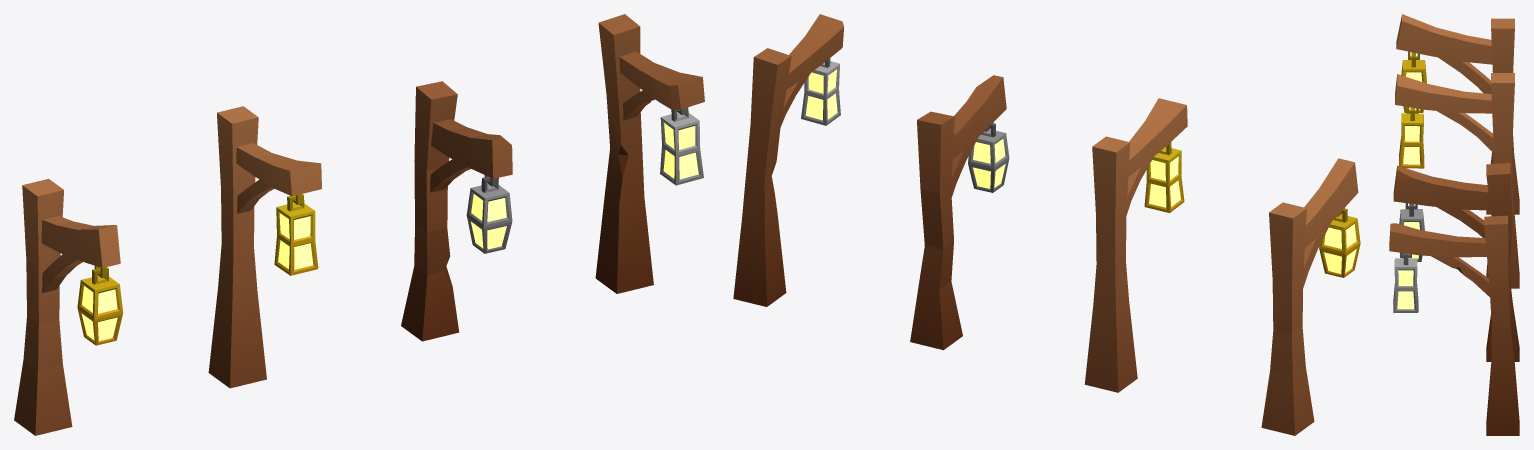
Rendered from Street Lamps.glb.
3 renders of one model, left to right at view 1: azimuth 30°, elevation 25°; view 2: azimuth 150°, elevation 25°; view 3: azimuth 270°, elevation 25°, orthographic. The views are drawn at different scales.
Parts seen in each view (by area): view 1: StreetLamp.001, OldStreetLamp.001, OldStreetLamp, StreetLamp; view 2: StreetLamp.001, OldStreetLamp.001, OldStreetLamp, StreetLamp; view 3: OldStreetLamp.001, StreetLamp.001, OldStreetLamp, StreetLamp.
Boxes of the visible parts, left/top/right/bottom form: StreetLamp.001: left=208, top=106, right=321, bottom=388; OldStreetLamp.001: left=595, top=14, right=704, bottom=293; OldStreetLamp: left=401, top=81, right=512, bottom=341; StreetLamp: left=14, top=178, right=123, bottom=435; StreetLamp.001: left=1084, top=98, right=1187, bottom=392; OldStreetLamp.001: left=733, top=14, right=843, bottom=306; OldStreetLamp: left=910, top=75, right=1009, bottom=350; StreetLamp: left=1261, top=158, right=1360, bottom=435; OldStreetLamp.001: left=1389, top=215, right=1519, bottom=435; StreetLamp.001: left=1395, top=73, right=1519, bottom=288; OldStreetLamp: left=1393, top=163, right=1519, bottom=361; StreetLamp: left=1396, top=14, right=1519, bottom=214.
Bounding box in the file's own units: 6.39 × 2.61 × 1.5.
Materials: 1 (1 with a texture image).
